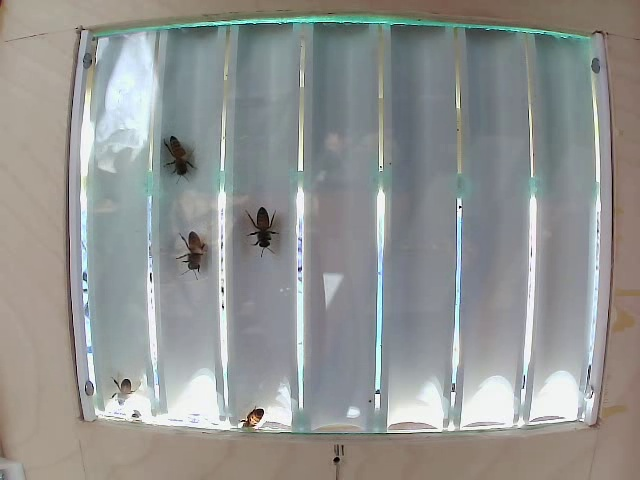bee: (239, 198, 294, 258), (148, 131, 200, 190), (181, 222, 218, 282)
